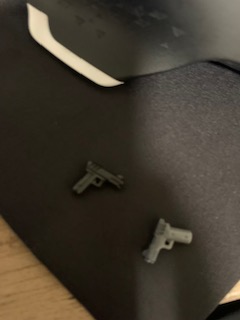pistol: (140, 217, 194, 267), (65, 157, 127, 199)
